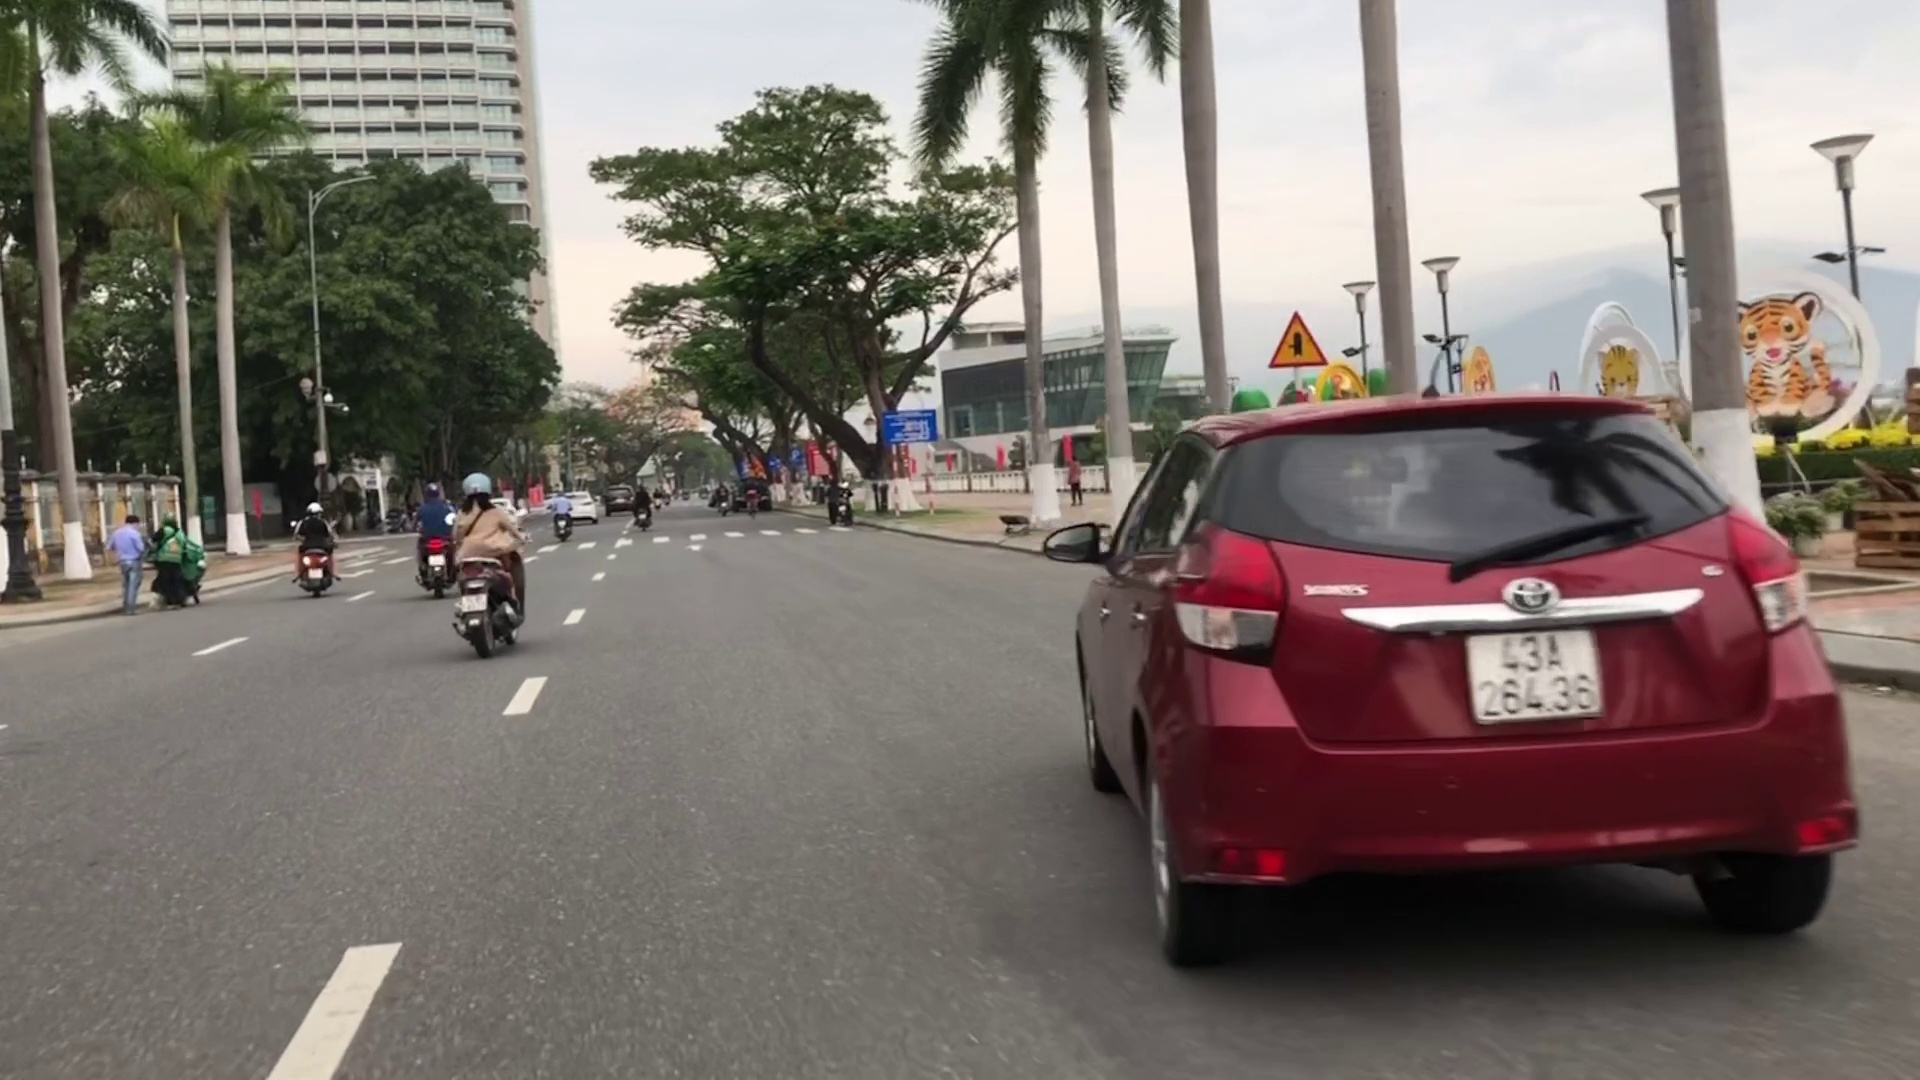Giao nhau voi duong khong uu tien: (1265, 306, 1327, 376)
